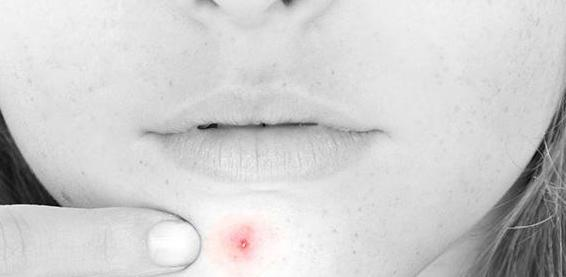Acne: (229, 230, 252, 255)
